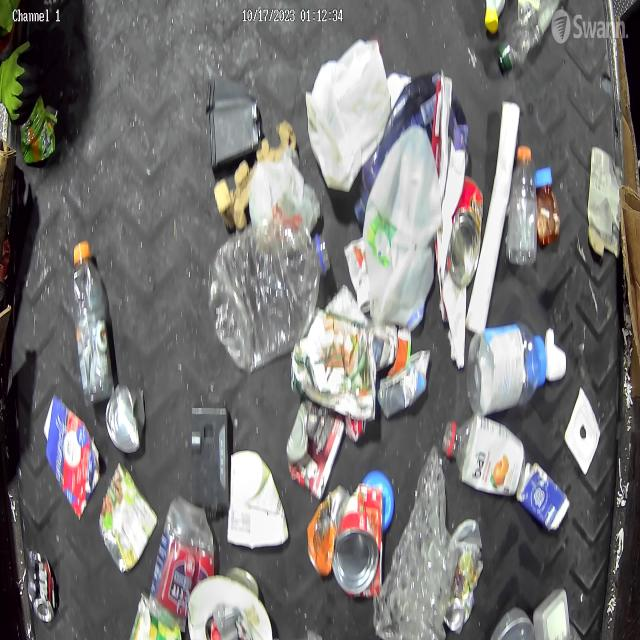milk-jug: (360, 124, 439, 330)
